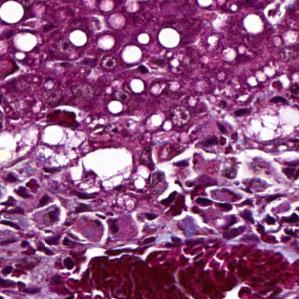ballooning: (67, 145, 134, 195), (240, 102, 299, 144)
